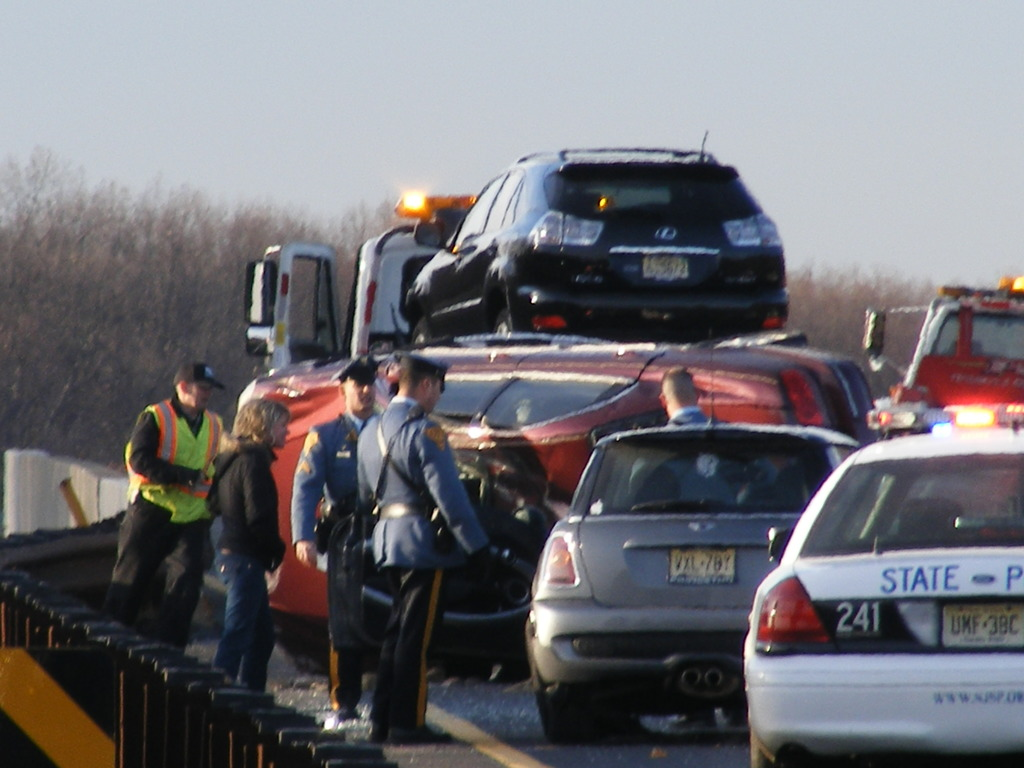Car: (233, 124, 1023, 767)
